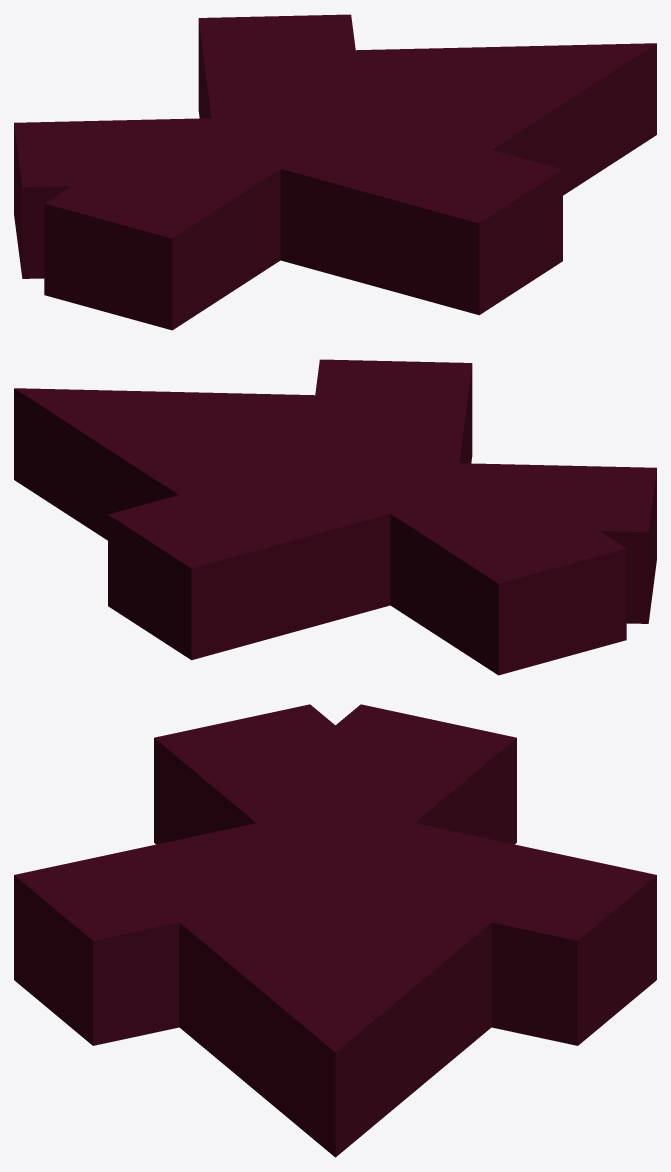
Rendered from sym_fish.fbx.
3 views of the same model, one above another, from view 1: azimuth 30°, elevation 25°; view 2: azimuth 150°, elevation 25°; view 3: azimuth 270°, elevation 25° (orthographic). The views are drawn at different scales.
Parts seen in each view (by area): view 1: Fish; view 2: Fish; view 3: Fish.
Boxes of the visible parts, bbox=[...] form: Fish: bbox=[14, 14, 656, 330]; Fish: bbox=[14, 359, 656, 675]; Fish: bbox=[14, 704, 656, 1157].
Bounding box in the file's own units: 471 × 66.24 × 368.
